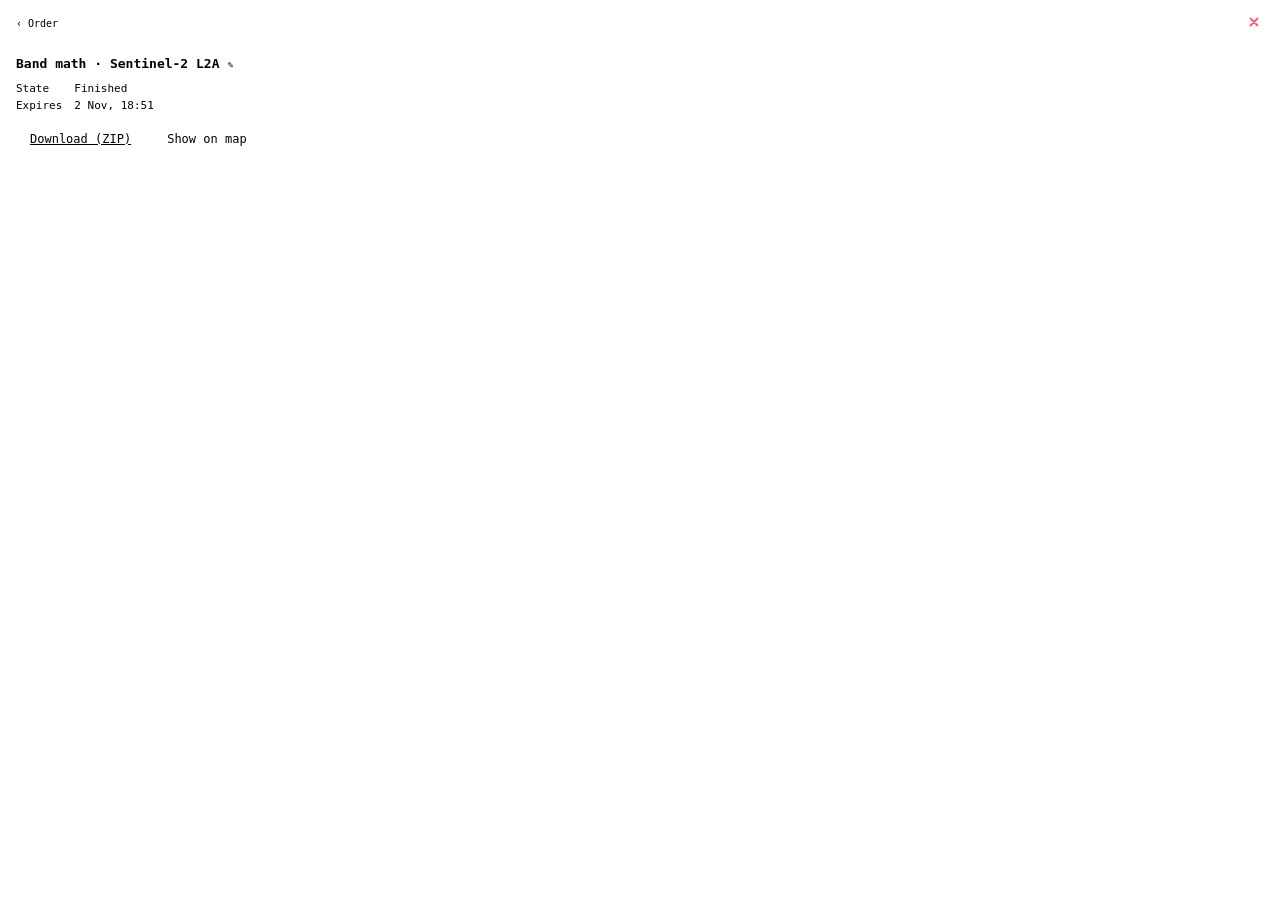
Test: when the result cannot be shown › writes the reason in the row on 404, and makes no layer
Click the button "Show on map".
click(207, 139)  # box [153,122,261,156]
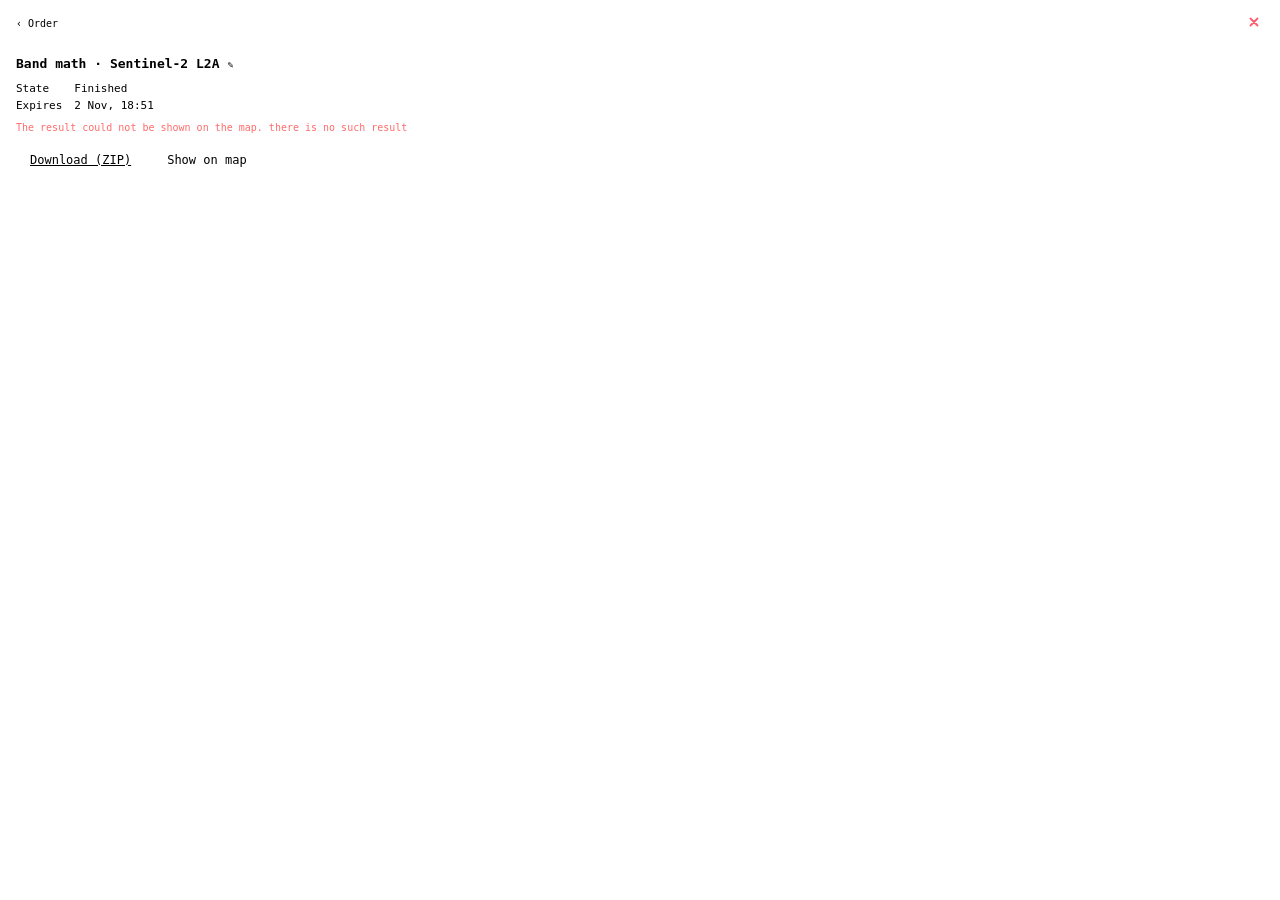
Now the message with class "error" shows "could not be shown on the map", box [16,122,407,133]
